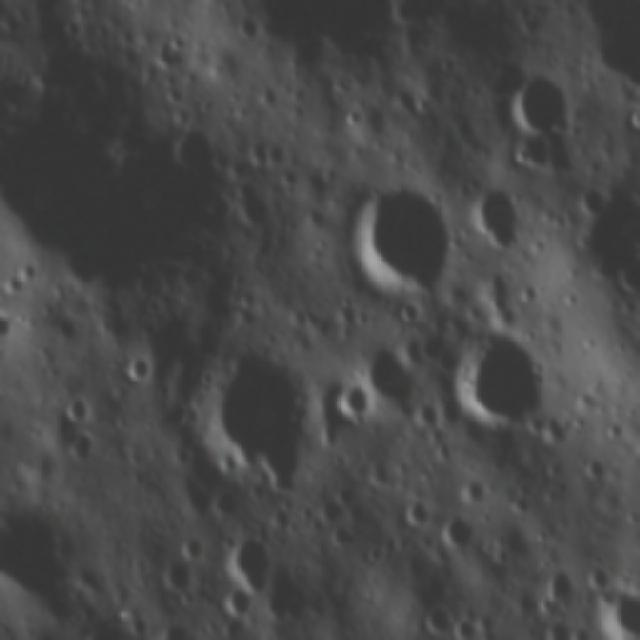crater: (0, 104, 218, 293), (198, 342, 314, 478), (339, 175, 458, 290), (443, 318, 546, 430), (0, 499, 72, 620), (505, 62, 577, 146), (354, 333, 420, 409), (466, 177, 526, 255), (222, 532, 278, 602), (168, 116, 230, 178), (436, 504, 484, 565), (231, 182, 280, 236), (592, 586, 640, 640), (328, 376, 377, 426), (534, 556, 581, 606), (52, 383, 99, 428), (114, 342, 157, 389), (576, 182, 618, 226), (416, 600, 458, 640), (397, 482, 432, 528), (362, 453, 401, 492), (175, 524, 208, 570), (65, 427, 101, 462), (586, 562, 616, 604), (536, 611, 576, 640), (577, 450, 609, 484), (232, 10, 262, 44), (151, 617, 194, 640), (328, 520, 358, 552), (484, 266, 516, 296), (330, 482, 361, 511), (507, 495, 535, 522), (450, 611, 476, 640), (359, 540, 387, 566), (0, 273, 26, 299), (0, 310, 18, 346), (0, 38, 9, 91)
